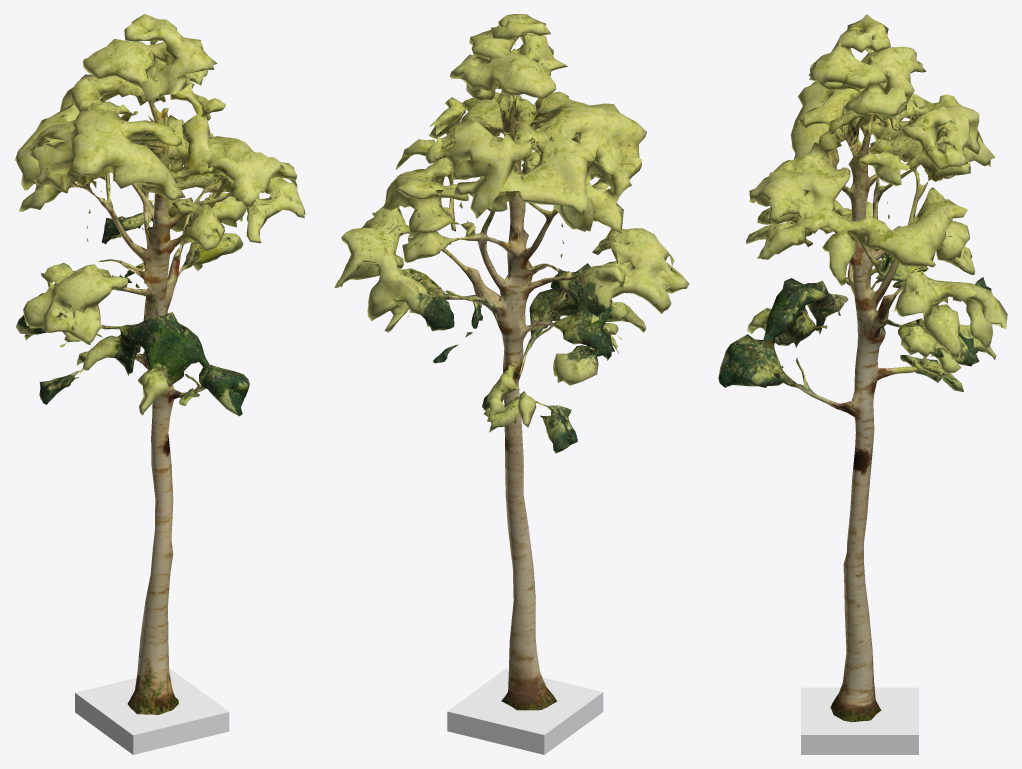
The model's file is birch.glb.
The picture shows the model from 3 angles, left to right: view 1: azimuth 30°, elevation 25°; view 2: azimuth 150°, elevation 25°; view 3: azimuth 270°, elevation 25°; orthographic projection.
Parts seen in each view (by area): view 1: birch; view 2: birch; view 3: birch.
Boxes of the visible parts, box(x1,y1,x2,y2) form: birch: box(14, 14, 305, 754); birch: box(334, 14, 689, 754); birch: box(718, 14, 1007, 754).
Bounding box in the file's own units: 0.7764 × 1.92 × 0.7098.
Materials: 2 (1 with a texture image).
